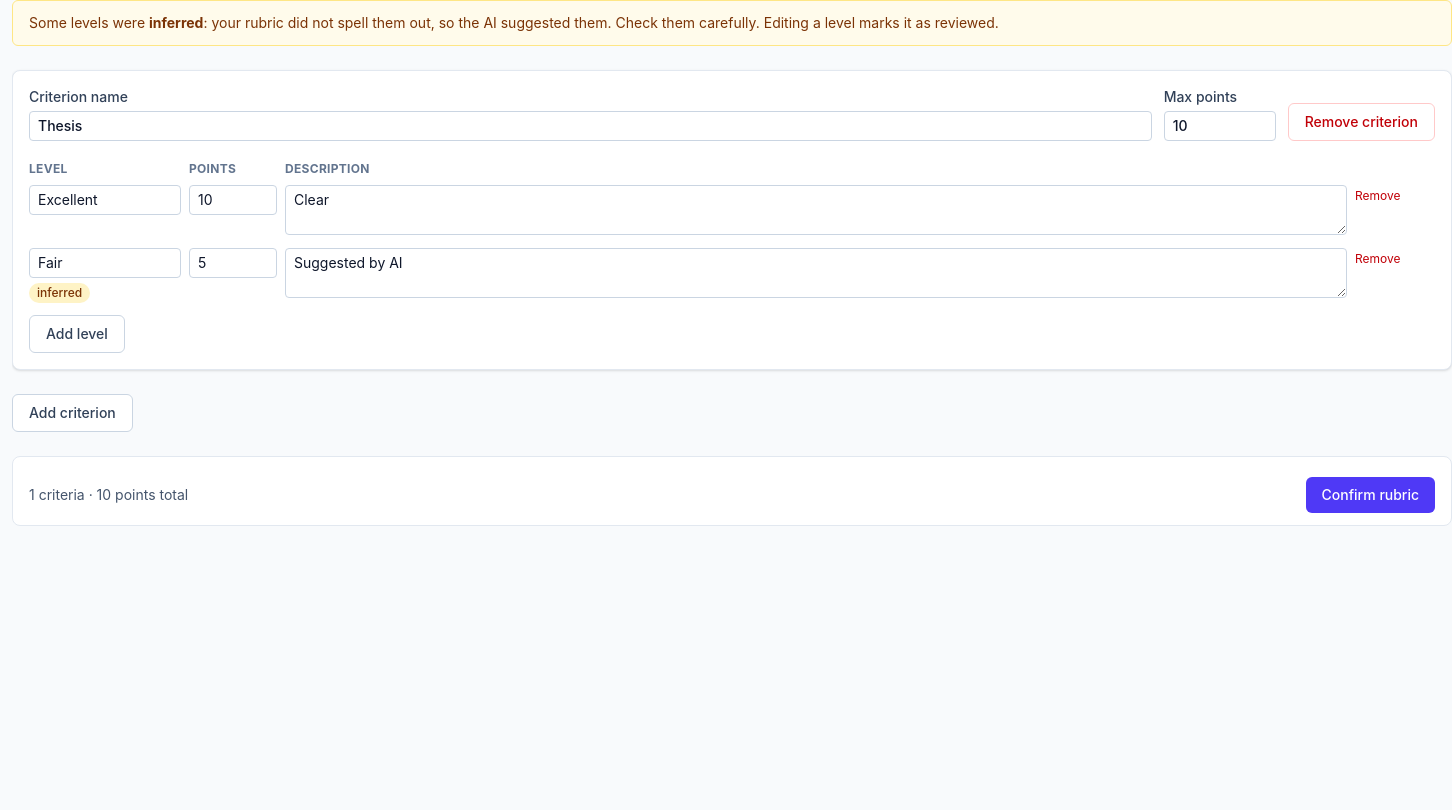
Scenario: RubricEditor › adds and removes levels
Click the button "Add level" at (77, 334), box [29, 315, 125, 353]
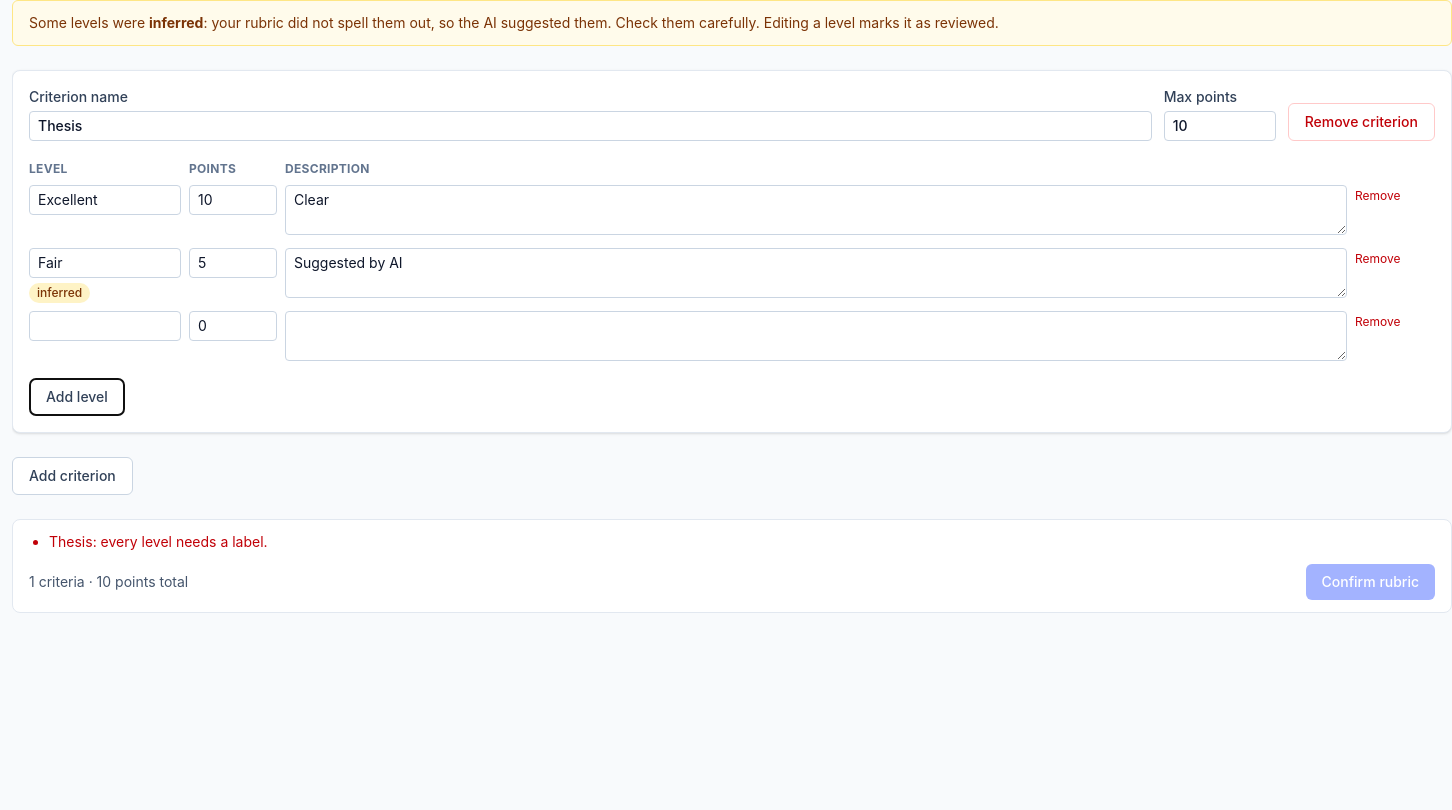
Result: the number of fields named "Level label" is 3 at [29, 185, 181, 215]; [29, 248, 181, 278]; [29, 311, 181, 341]
Click the 3rd button "Remove" at (1378, 322), box [1355, 314, 1400, 330]
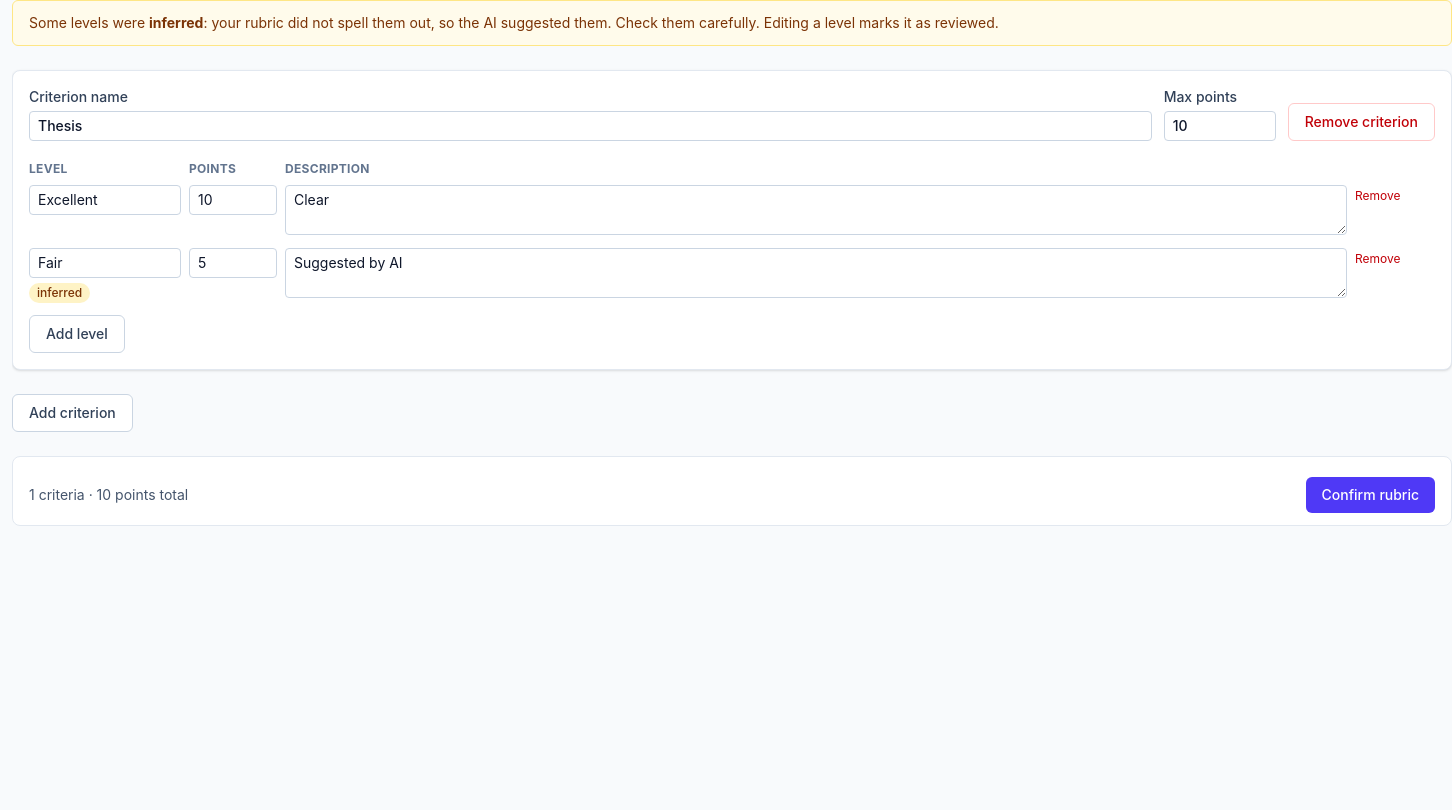
Result: the number of fields named "Level label" is 2 at [29, 185, 181, 215]; [29, 248, 181, 278]
